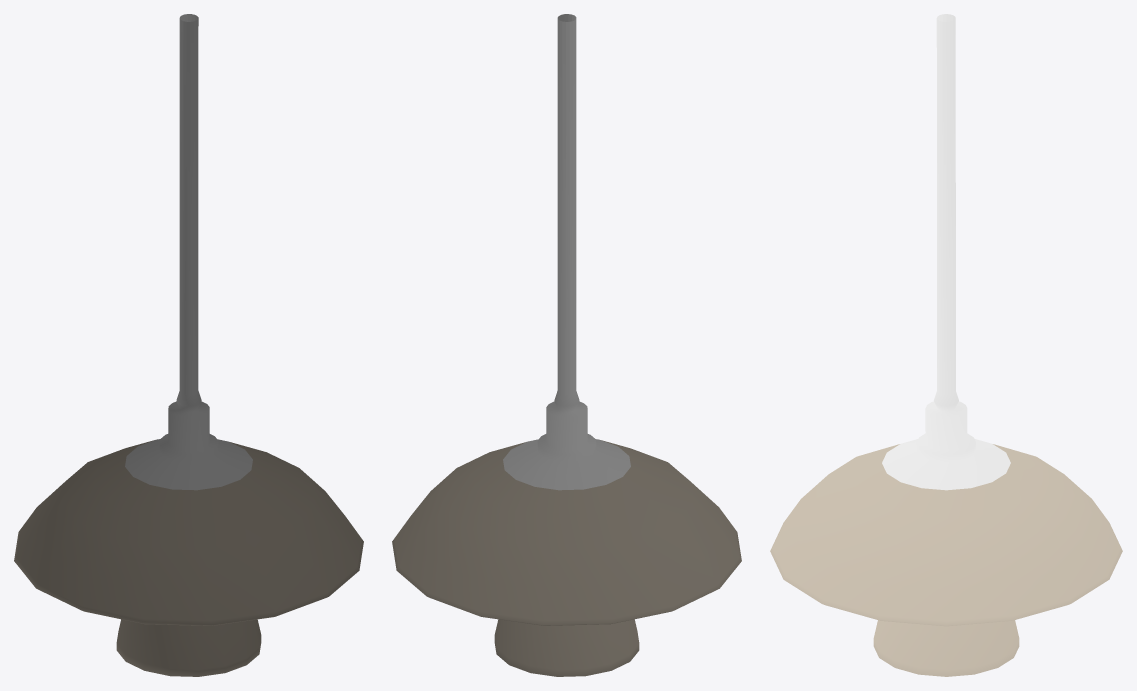
3 renders of one model, left to right at view 1: azimuth 30°, elevation 25°; view 2: azimuth 150°, elevation 25°; view 3: azimuth 270°, elevation 25°, orthographic.
Parts seen in each view (by area): view 1: FP208:Base23_b2e4b144; view 2: FP208:Base23_b2e4b144; view 3: FP208:Base23_b2e4b144.
Part boxes in pixels (x1,y1,x2,y2): FP208:Base23_b2e4b144: (14, 14, 363, 676); FP208:Base23_b2e4b144: (392, 14, 741, 676); FP208:Base23_b2e4b144: (770, 14, 1122, 676).
Bounding box in the file's own units: 0.5978 × 1.17 × 0.5978.
